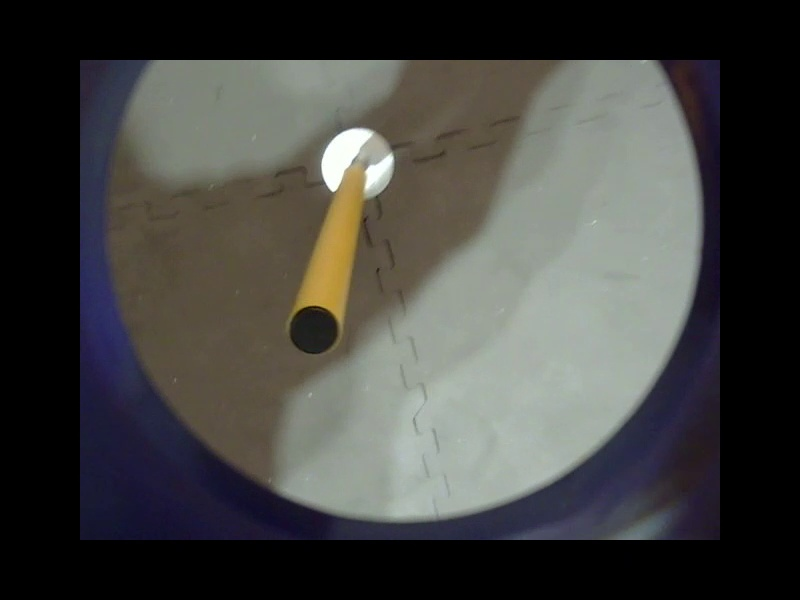tip: (286, 293, 349, 360)
